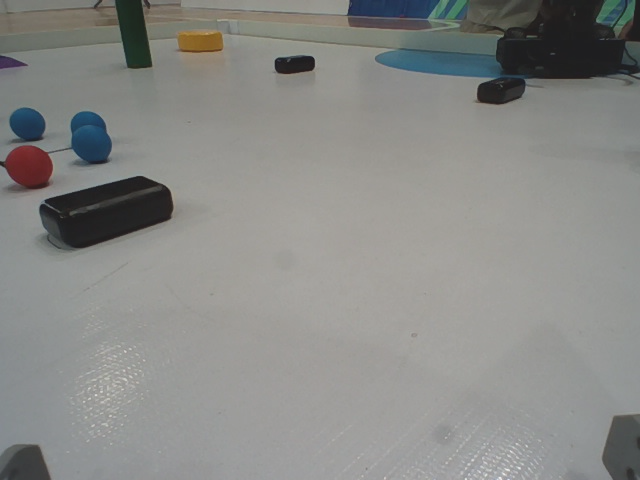black: (37, 178, 177, 244), (479, 76, 527, 105), (272, 56, 313, 69)
blue: (72, 126, 113, 167), (7, 106, 44, 138), (73, 109, 105, 141)
red: (5, 144, 57, 193)
yellow: (176, 27, 226, 53)
zhuzi: (114, 1, 155, 70)
